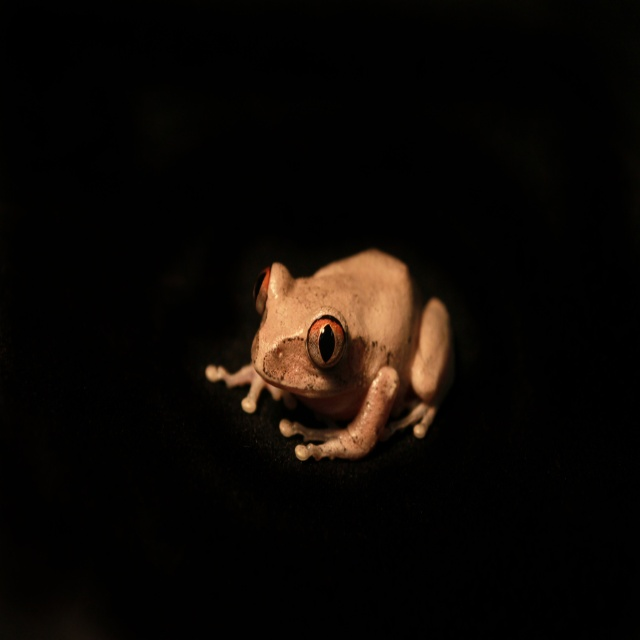Frog: (205, 250, 452, 460)
